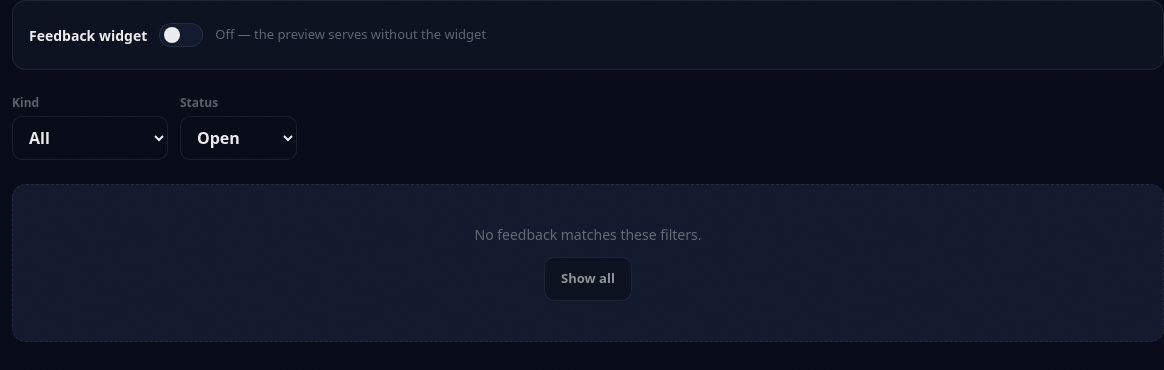
AdminPreviewFeedback › all filtered out shows "No feedback matches these filters." and "Show all" brings the items back
Check: the text "No feedback matches these filters." is shown, box [474,225,702,244]
Check: the text "Footer link typo" is not shown
Click the button "Show all".
click(588, 279)  # box [544,257,632,301]
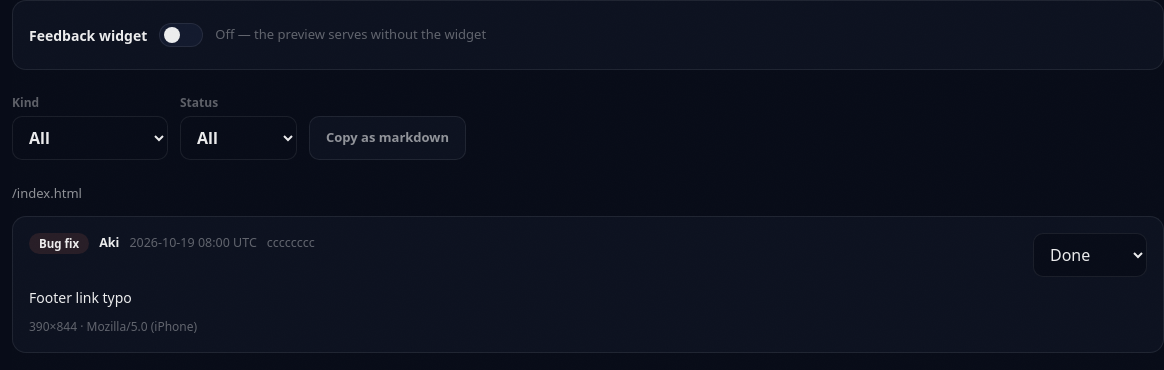
Check: the dropdown named "Filter by kind" shows "All", box [12,116,168,160]
Check: the text "Footer link typo" is shown, box [29,288,132,306]
Check: the dropdown named "Filter by status" shows "All", box [180,116,297,160]
